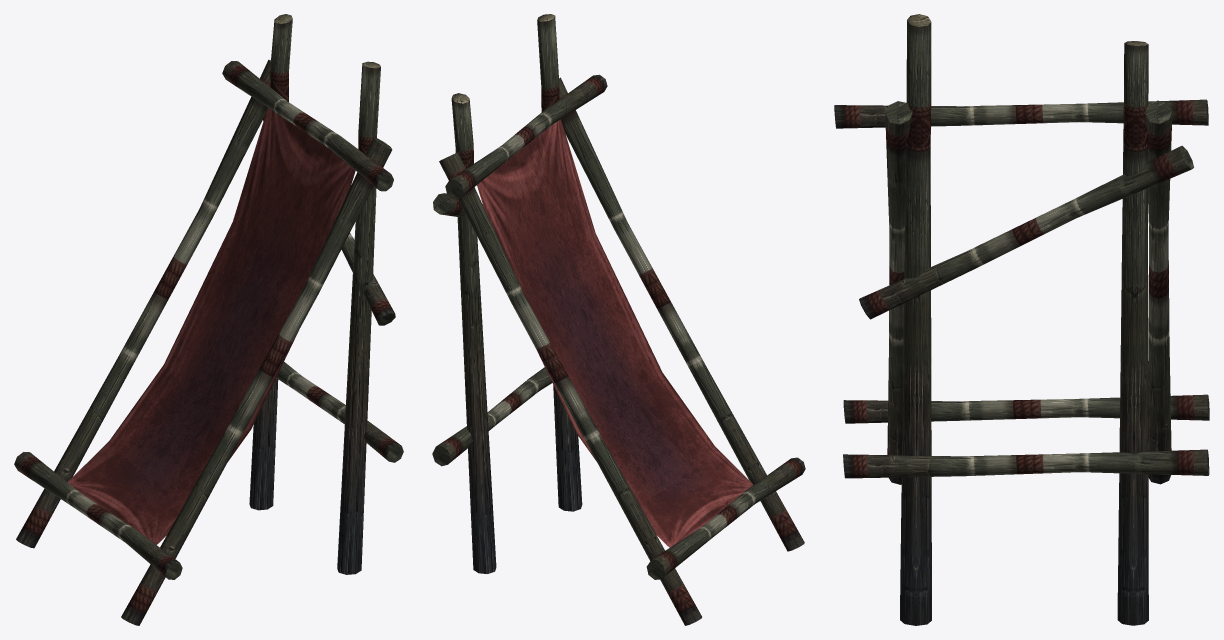
File: camp_redthief_deco_01.fbx
The picture shows the model from 3 angles, left to right: view 1: azimuth 30°, elevation 25°; view 2: azimuth 150°, elevation 25°; view 3: azimuth 270°, elevation 25°; orthographic projection. The views are drawn at different scales.
Visible parts, largest first — view 1: camp_redthief_deco_01; view 2: camp_redthief_deco_01; view 3: camp_redthief_deco_01.
Part boxes in pixels (x1,y1,x2,y2): camp_redthief_deco_01: (14, 14, 403, 625); camp_redthief_deco_01: (432, 14, 805, 625); camp_redthief_deco_01: (834, 14, 1209, 625).
Size of the model in its own units: 4.4 by 7.82 by 4.32.
